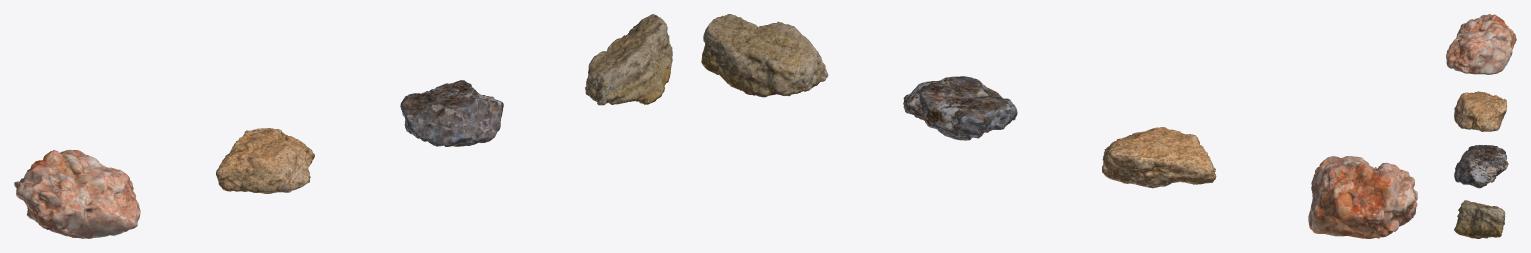
Rendered from namaqualand-rocks.glb.
3 renders of one model, left to right at view 1: azimuth 30°, elevation 25°; view 2: azimuth 150°, elevation 25°; view 3: azimuth 270°, elevation 25°, orthographic. The views are drawn at different scales.
Parts seen in each view (by area): view 1: namaqualand_rocks_02_a, namaqualand_rocks_02_d, namaqualand_rocks_02_c, namaqualand_rocks_02_b; view 2: namaqualand_rocks_02_d, namaqualand_rocks_02_a, namaqualand_rocks_02_b, namaqualand_rocks_02_c; view 3: namaqualand_rocks_02_a, namaqualand_rocks_02_b, namaqualand_rocks_02_c, namaqualand_rocks_02_d.
Part boxes in pixels (left/top/right/bottom): namaqualand_rocks_02_a: left=14, top=149, right=140, bottom=238; namaqualand_rocks_02_d: left=585, top=14, right=672, bottom=105; namaqualand_rocks_02_c: left=400, top=80, right=503, bottom=146; namaqualand_rocks_02_b: left=216, top=128, right=314, bottom=193; namaqualand_rocks_02_d: left=701, top=14, right=828, bottom=97; namaqualand_rocks_02_a: left=1308, top=156, right=1417, bottom=238; namaqualand_rocks_02_b: left=1102, top=127, right=1216, bottom=188; namaqualand_rocks_02_c: left=903, top=76, right=1017, bottom=140; namaqualand_rocks_02_a: left=1446, top=14, right=1516, bottom=74; namaqualand_rocks_02_b: left=1454, top=91, right=1507, bottom=131; namaqualand_rocks_02_c: left=1454, top=145, right=1508, bottom=188; namaqualand_rocks_02_d: left=1454, top=200, right=1505, bottom=238.
Bounding box in the file's own units: 1.45 × 0.1525 × 0.217.
Materials: 1 (1 with a texture image).
